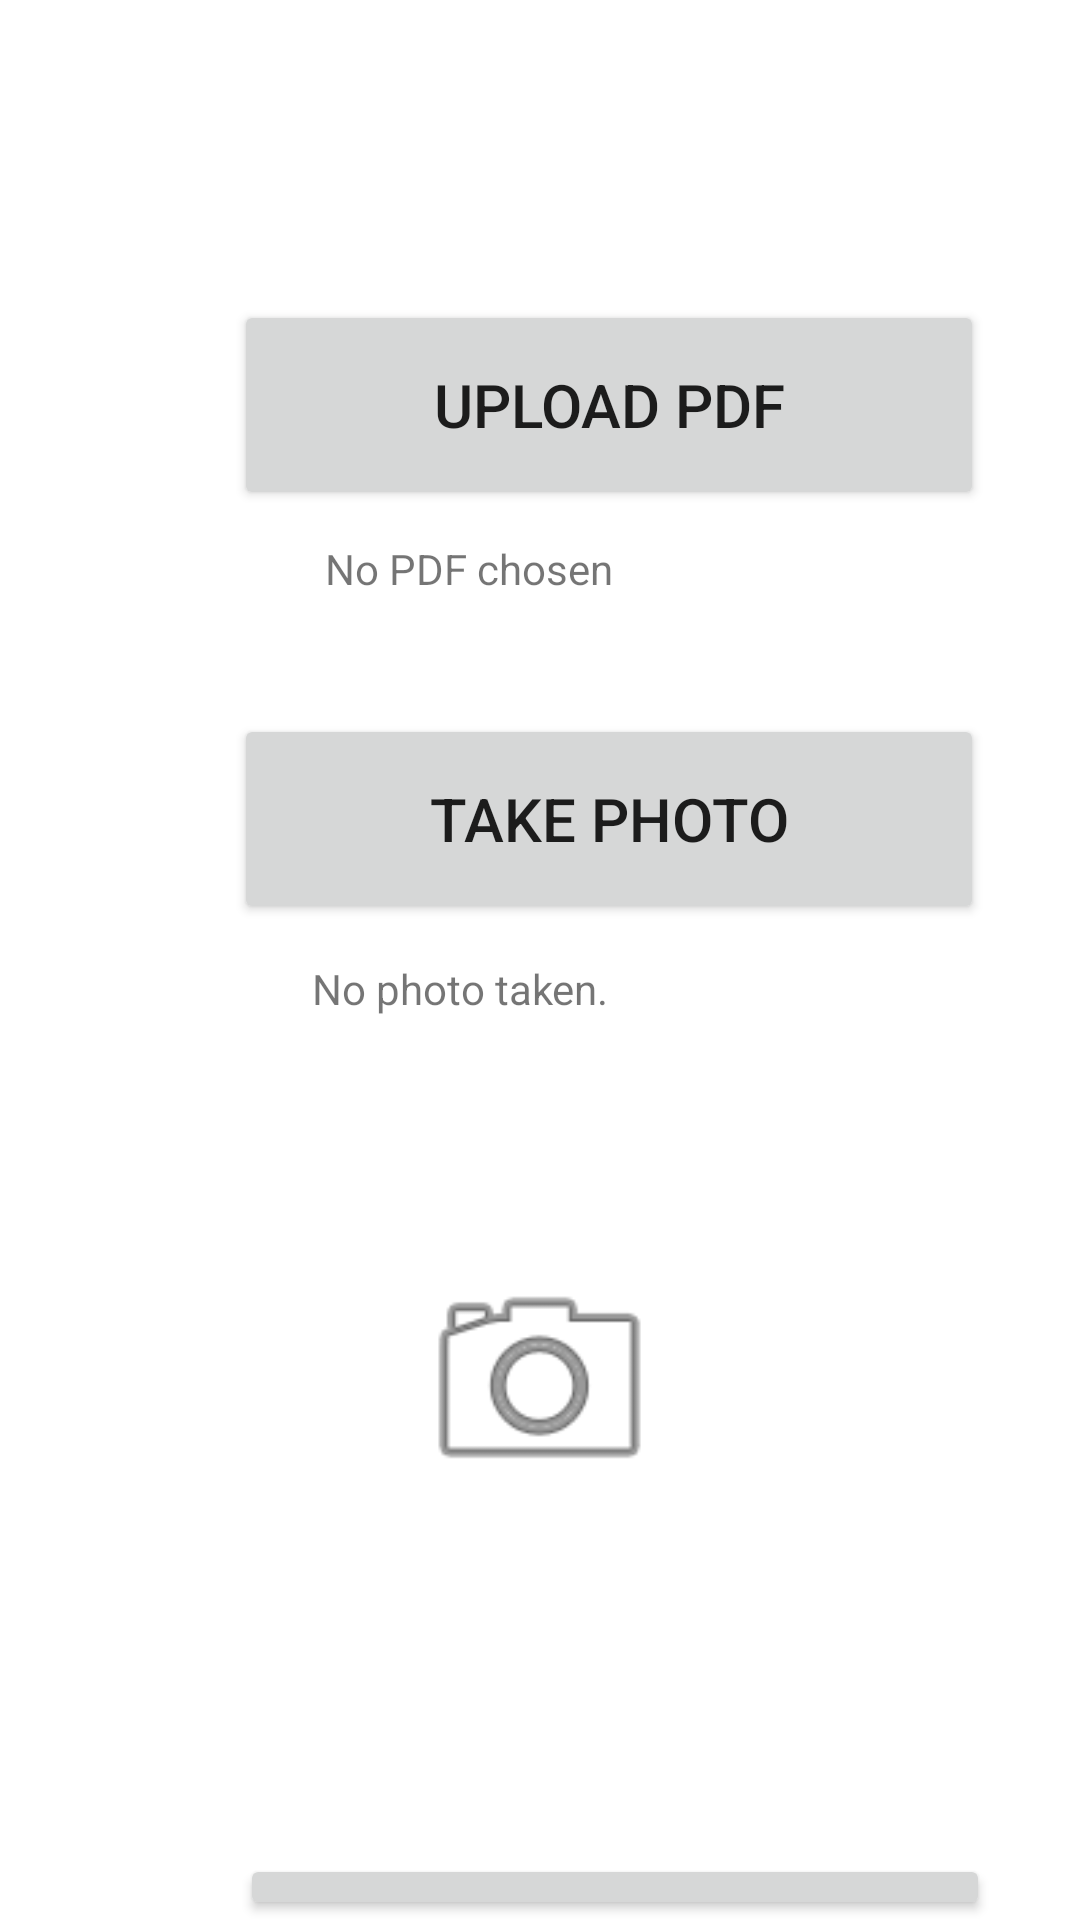

Icon bounding boxes for this 1080 × 1920 phone screenshot, format (x1, y1, x2, y2):
camera: (438, 1297, 641, 1458)
